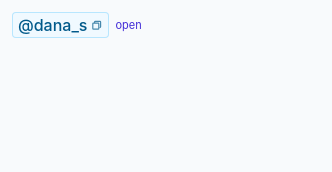
Test: TelegramHandle › shows the username and copies it on one click
This screenshot has width=332, height=172.
Click the button with aria-label "Copy Telegram username @dana_s": (61, 25) x1=12 y1=12 x2=109 y2=38
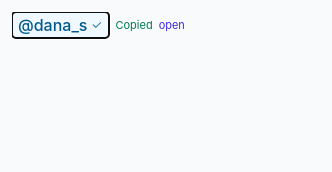
Now the text "Copied" is shown, box x1=115 y1=17 x2=153 y2=33
